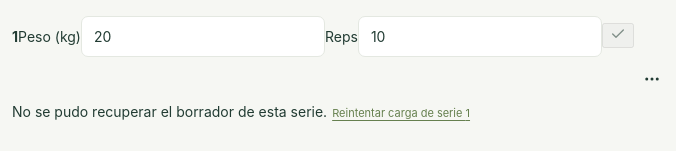
Scenario: set can retry a failed hydration without overwriting the saved draft
Expected: the field named "Peso serie 1" is disabled, x1=81 y1=16 x2=325 y2=57
Click the button "Reintentar carga de serie 1" at (401, 113), box x1=327 y1=101 x2=475 y2=125
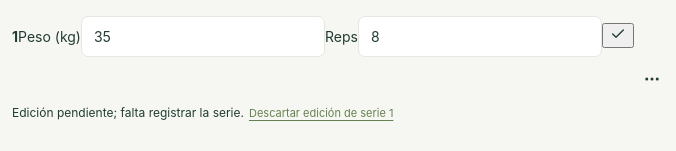
Now the field named "Peso serie 1" is enabled, box x1=81 y1=16 x2=325 y2=57
Now the field named "Peso serie 1" holds "35", box x1=81 y1=16 x2=325 y2=57
